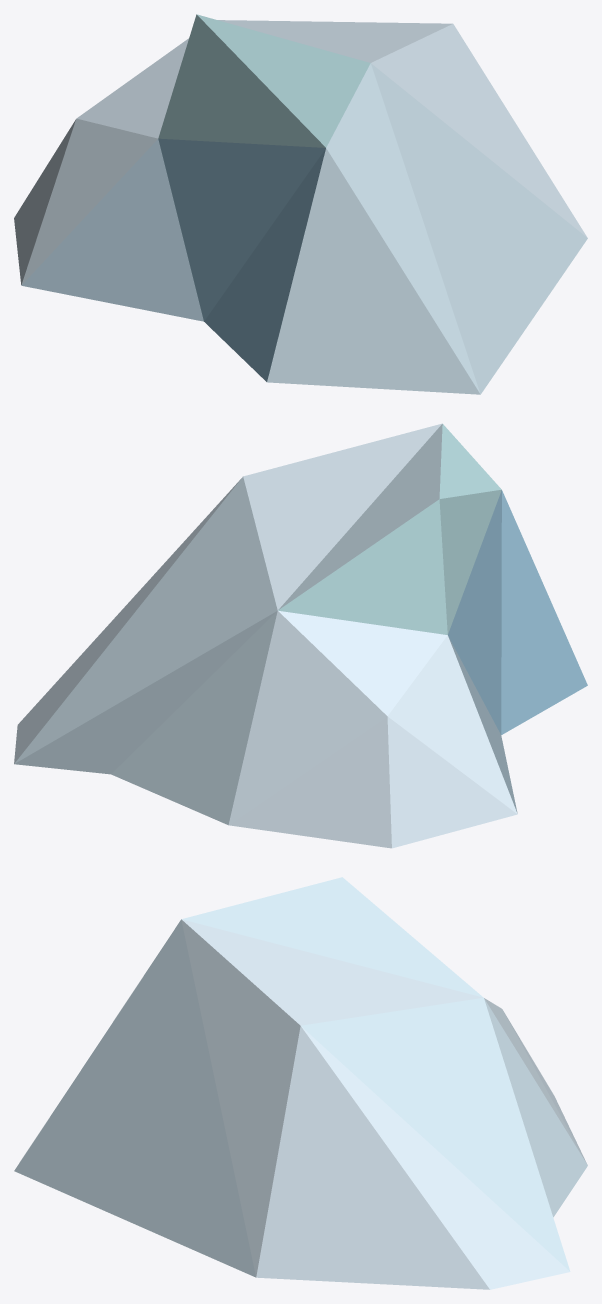
The model's file is Iceberg 10.fbx.
3 renders of one model, top to bottom at view 1: azimuth 30°, elevation 25°; view 2: azimuth 150°, elevation 25°; view 3: azimuth 270°, elevation 25°, orthographic. The views are drawn at different scales.
Parts seen in each view (by area): view 1: Iceberg 16; view 2: Iceberg 16; view 3: Iceberg 16.
Part boxes in pixels (bbox=[...]): Iceberg 16: bbox=[14, 14, 587, 394]; Iceberg 16: bbox=[14, 423, 587, 848]; Iceberg 16: bbox=[14, 877, 587, 1289].
Size of the model in its own units: 2806 by 1463 by 3066.
